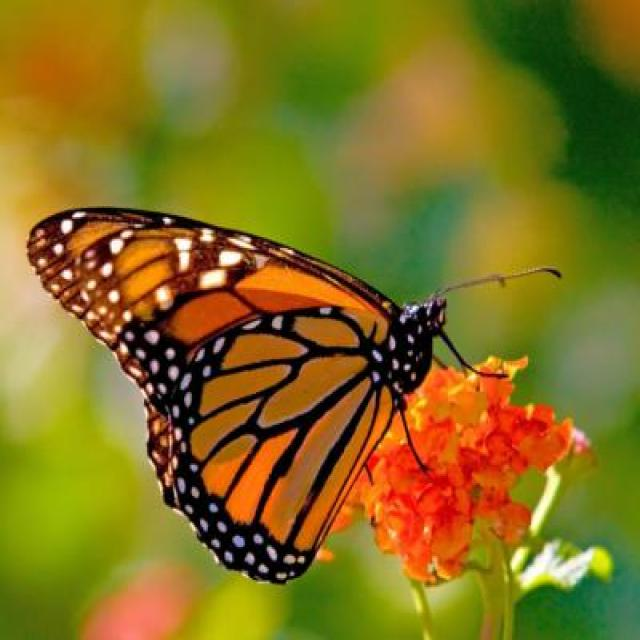antennae: (438, 264, 565, 312)
body: (386, 294, 450, 411)
insect: (28, 202, 562, 585)
legs: (403, 332, 508, 476)
wings: (26, 204, 396, 584)
